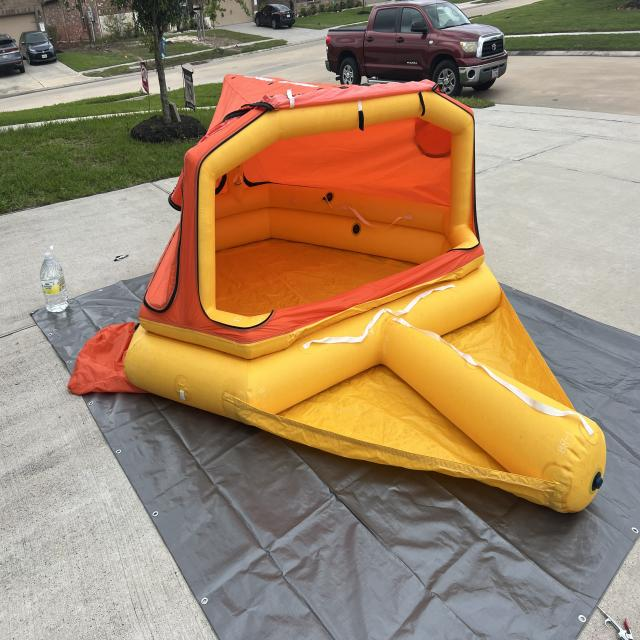Multi-person_life_raft: (67, 76, 607, 514)
